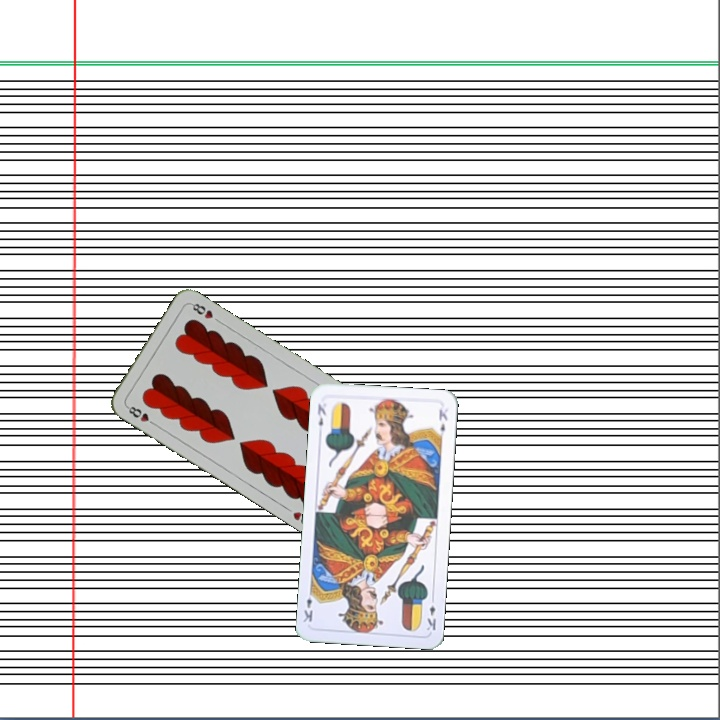EK: (423, 593, 439, 633), (313, 400, 329, 429)
H8: (123, 402, 159, 428)
